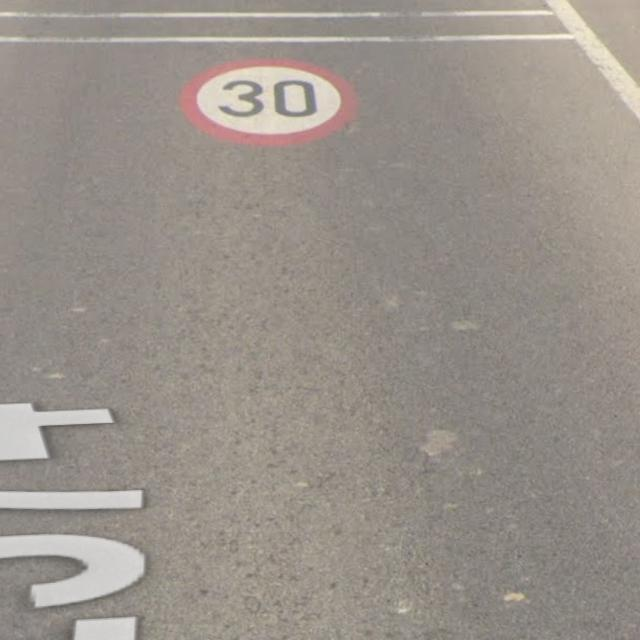forb_speed_over_30: (178, 55, 360, 151)
